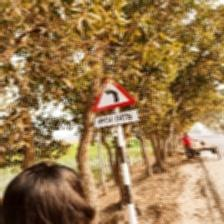Left-Turn: (91, 78, 140, 129)
